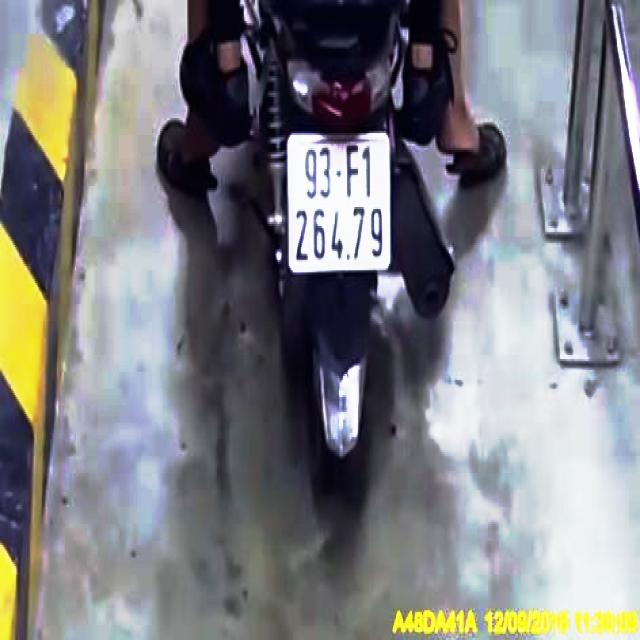license_plate: (287, 135, 392, 276)
